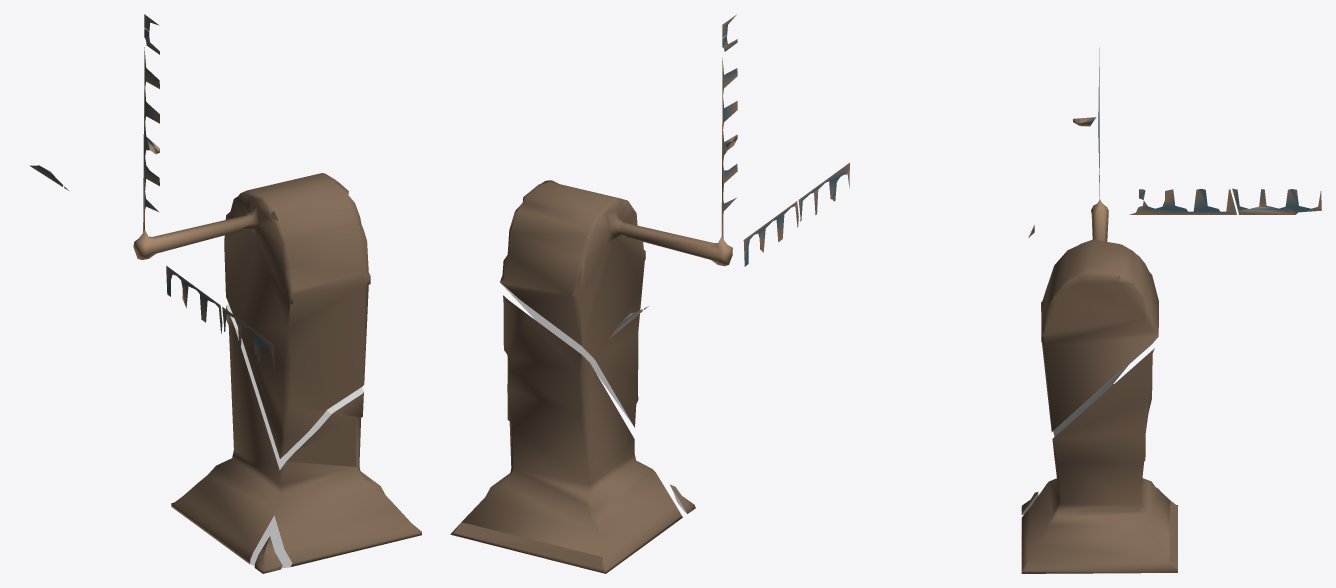
Rendered from Windmills.glb.
3 views of the same model, side by side, from view 1: azimuth 30°, elevation 25°; view 2: azimuth 150°, elevation 25°; view 3: azimuth 270°, elevation 25° (orthographic). The views are drawn at different scales.
Visible parts, largest first — view 1: Root.009, Root.001, Root.010, Root.002, Root.008; view 2: Root.001, Root.009, Root.010, Root.002; view 3: Root.001, Root.009, Root.004, Root.012.
Boxes of the visible parts, <box> form: Root.009: <box>133,47,370,458</box>; Root.001: <box>171,304,421,568</box>; Root.010: <box>166,266,222,333</box>; Root.002: <box>222,307,274,371</box>; Root.008: <box>254,536,282,573</box>; Root.001: <box>450,295,682,573</box>; Root.009: <box>500,57,737,427</box>; Root.010: <box>743,201,798,266</box>; Root.002: <box>798,162,849,221</box>; Root.001: <box>1021,348,1177,573</box>; Root.009: <box>1041,47,1158,436</box>; Root.004: <box>1129,189,1236,214</box>; Root.012: <box>1232,188,1321,214</box>.
Bounding box in the file's own units: 7.65 × 16.76 × 14.44.
